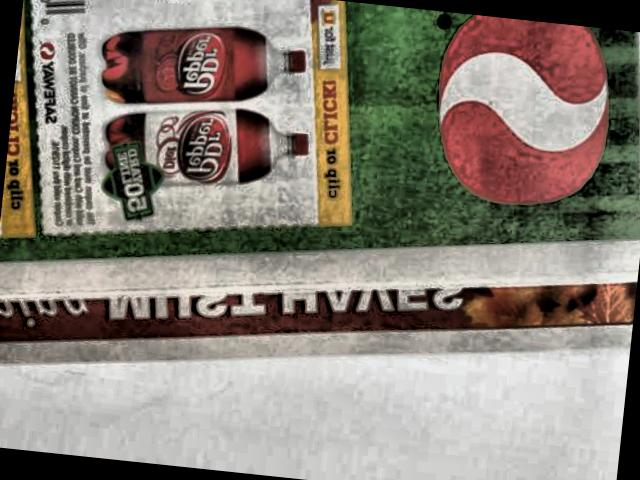Paper: (0, 0, 640, 433)
